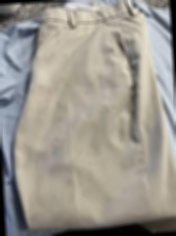oil: (97, 110, 132, 145)
